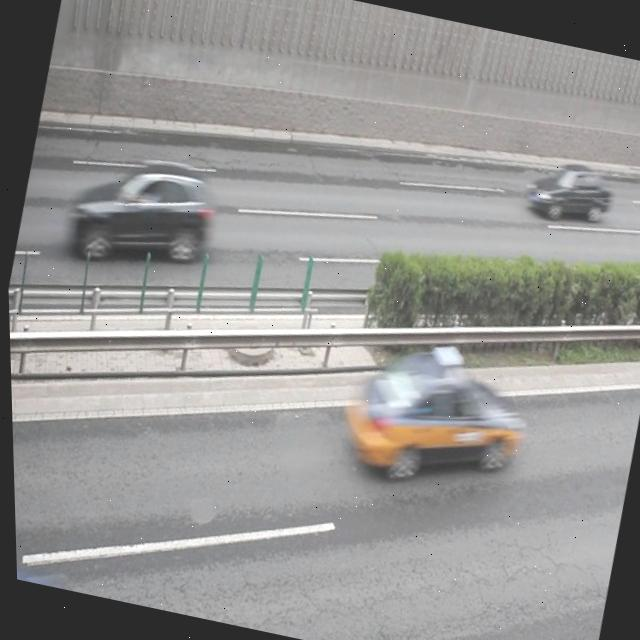car: (335, 330, 530, 494), (59, 144, 219, 276), (520, 154, 614, 226)
